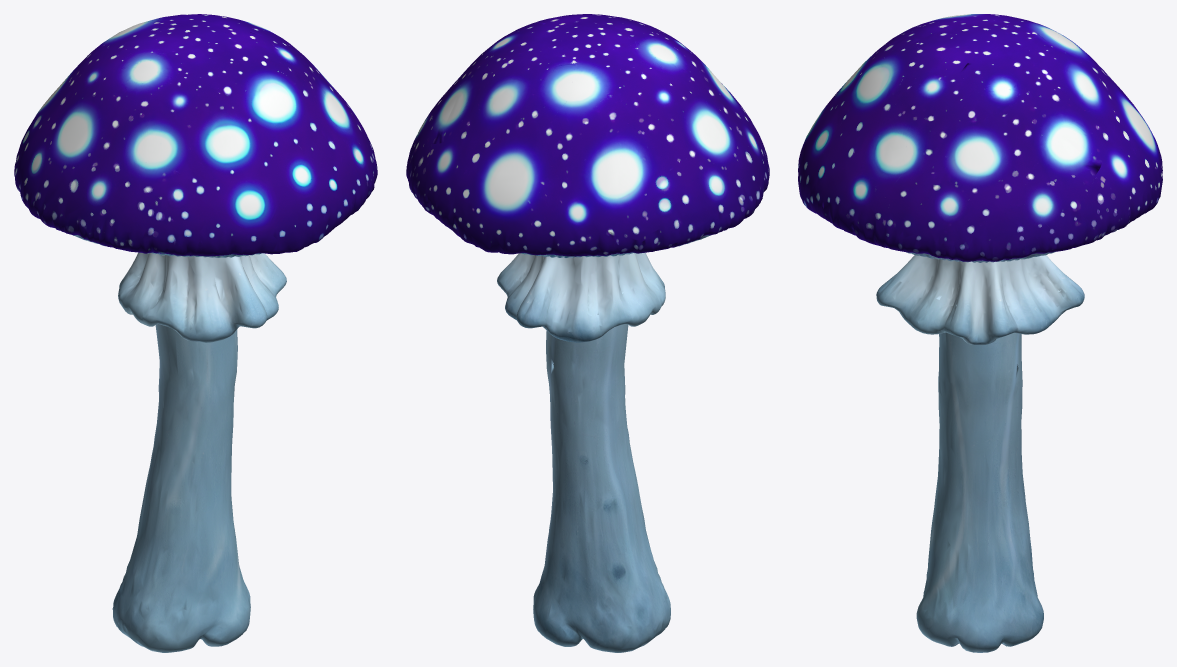
File: meshy_glowshroom_03.glb
The picture shows the model from 3 angles, left to right: view 1: azimuth 30°, elevation 25°; view 2: azimuth 150°, elevation 25°; view 3: azimuth 270°, elevation 25°; orthographic projection.
Bounding box in the file's own units: 1.07 × 1.91 × 1.04.
Materials: 1 (1 with a texture image).
